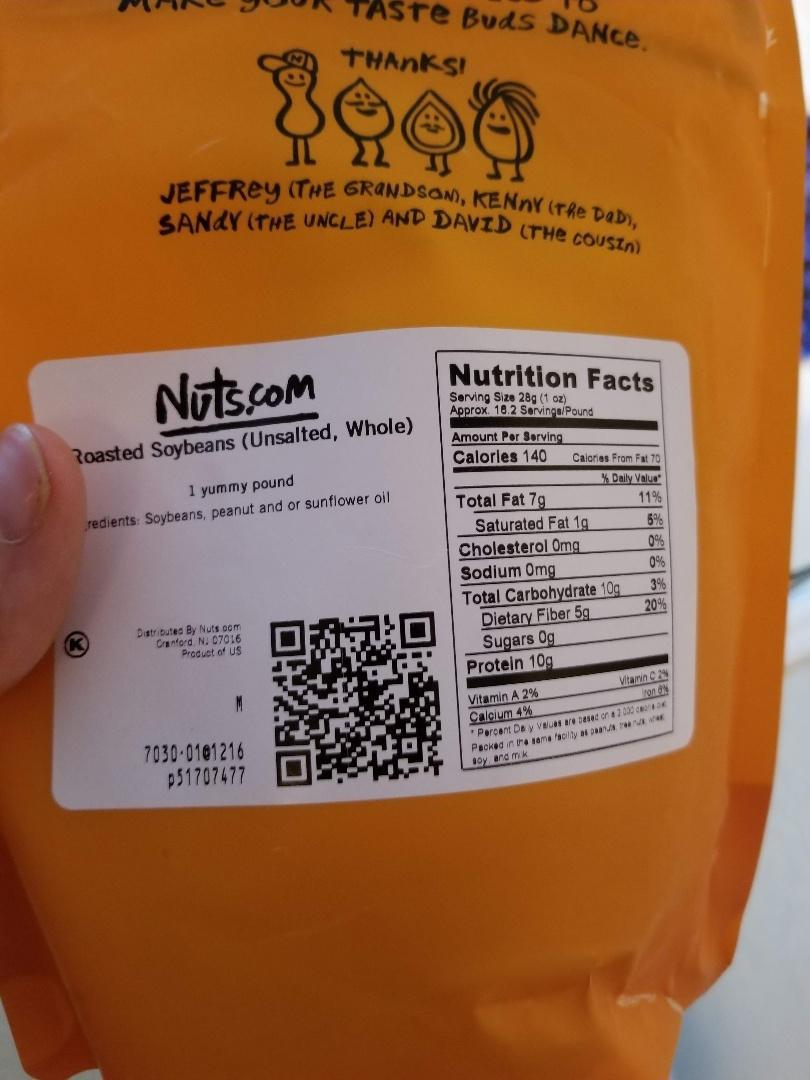Finder pattern: (393, 607, 442, 655), (262, 613, 310, 659), (266, 745, 316, 789)
